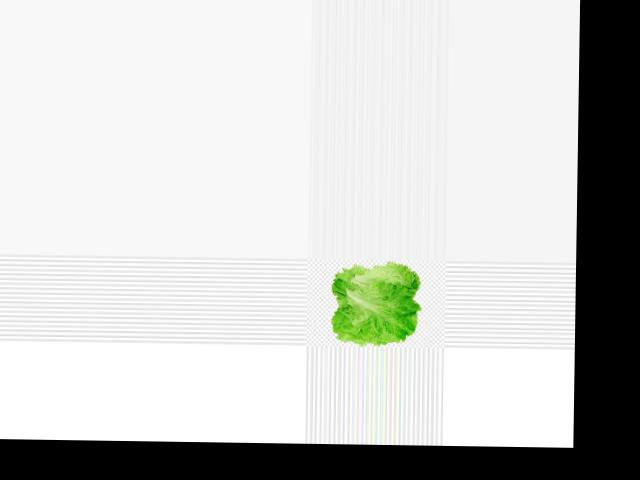lettuce: (324, 258, 427, 348)
